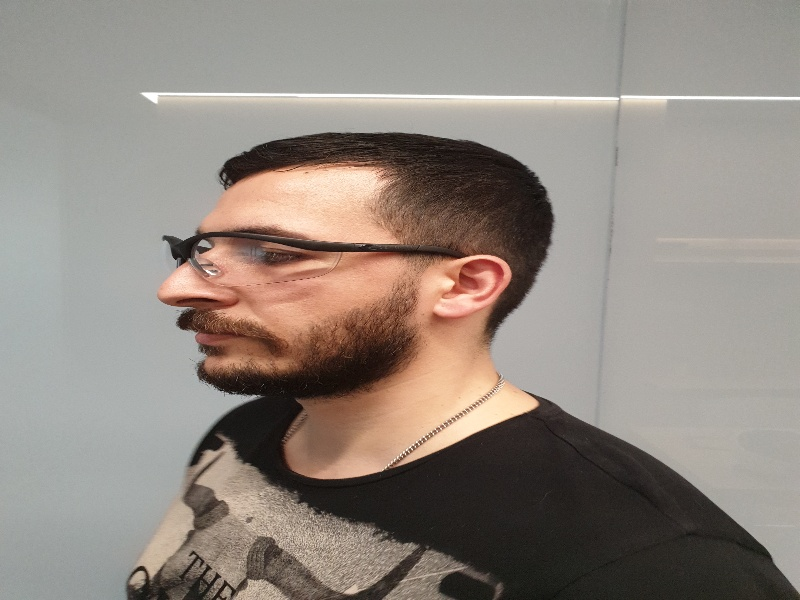Gozluk: (157, 231, 460, 287)
